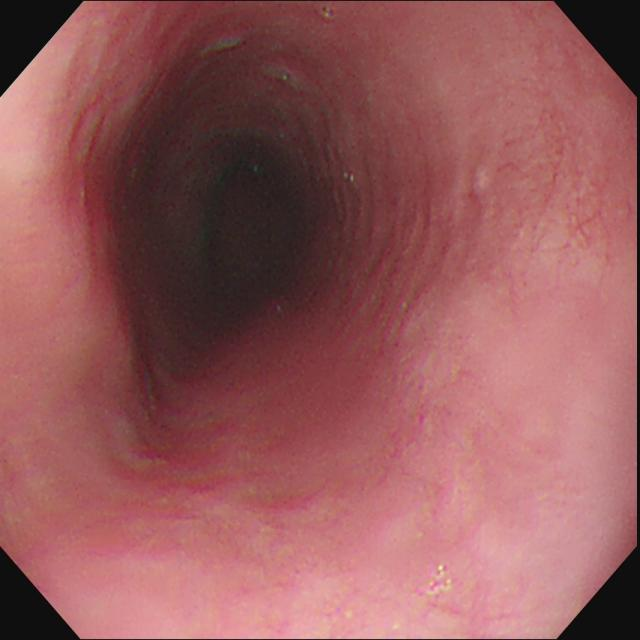E: (208, 155, 282, 304)
